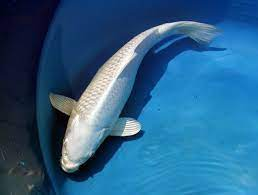white: (50, 20, 218, 175)
